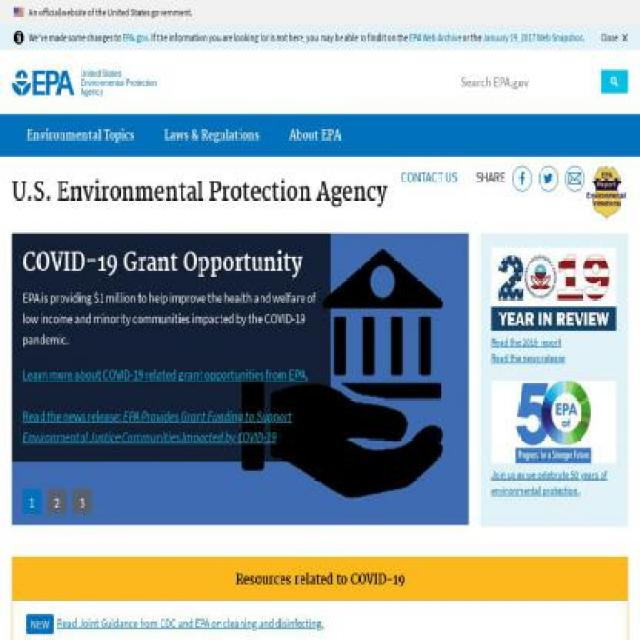button: (12, 114, 150, 157), (149, 114, 274, 157), (250, 0, 390, 25), (275, 114, 356, 157), (584, 163, 628, 226), (601, 69, 628, 94), (47, 490, 67, 516), (72, 490, 92, 516), (22, 490, 41, 516), (601, 30, 628, 45)
field: (452, 69, 628, 94)
